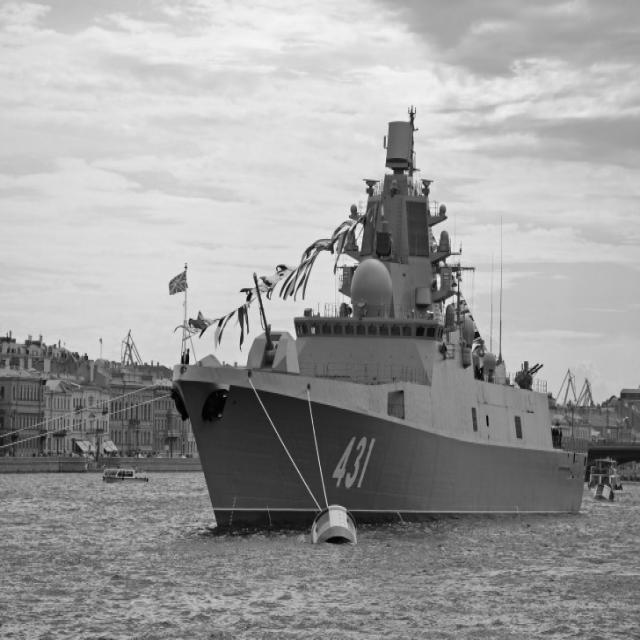Fragata: (163, 94, 599, 540)
